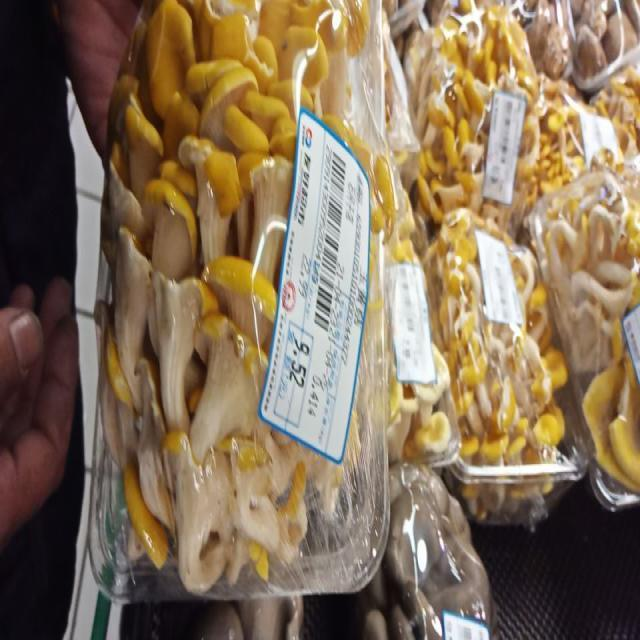Pleurotus citrinopileatus: (110, 0, 363, 591), (434, 213, 566, 470), (543, 184, 640, 493), (420, 78, 536, 215), (539, 79, 640, 193)
